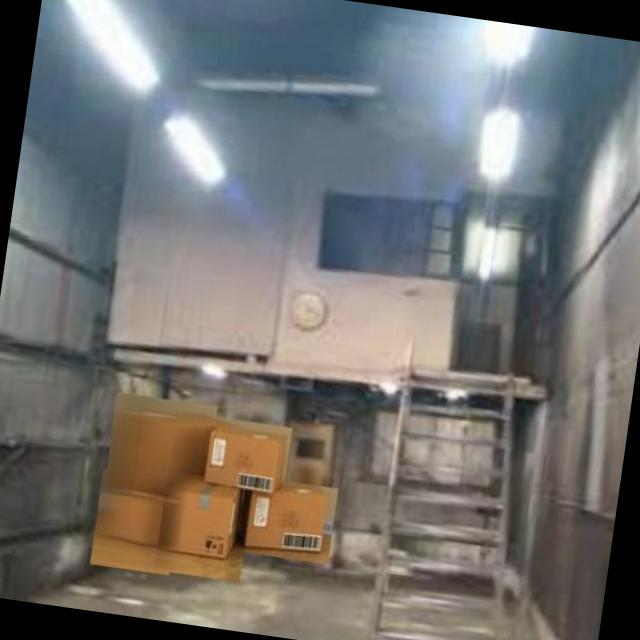box: (98, 392, 220, 535), (149, 468, 256, 586), (188, 414, 296, 513), (90, 467, 184, 578), (238, 475, 342, 566)
